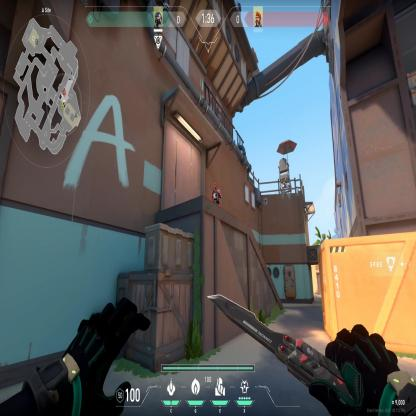enemy: (210, 182, 222, 206)
